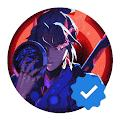fraud: (70, 74, 105, 109)
